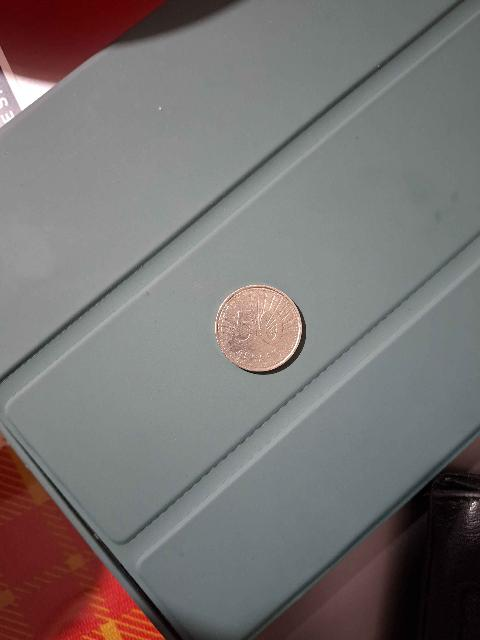coin: (221, 288, 299, 367)
